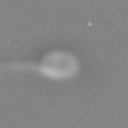normal: (1, 58, 41, 77)
